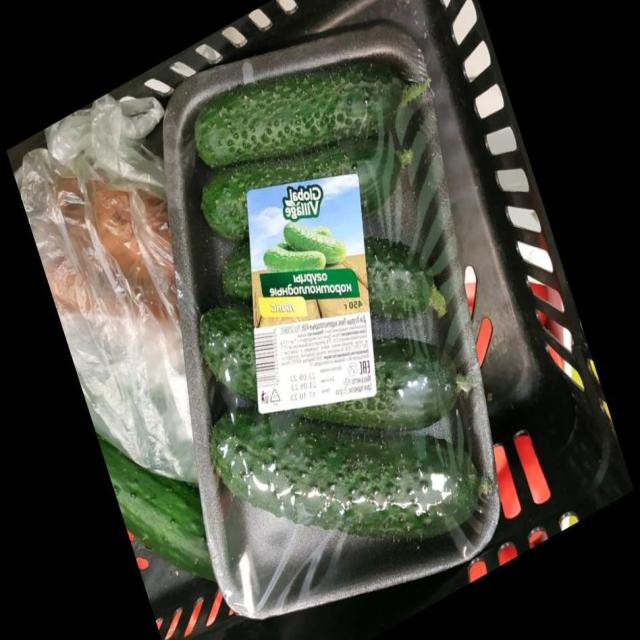Carrot: (88, 180, 146, 282)
Cucumber: (210, 408, 492, 538), (194, 61, 424, 168), (201, 138, 412, 241), (95, 432, 214, 580), (300, 338, 470, 430), (364, 237, 446, 319), (198, 304, 256, 400), (222, 242, 251, 301)
